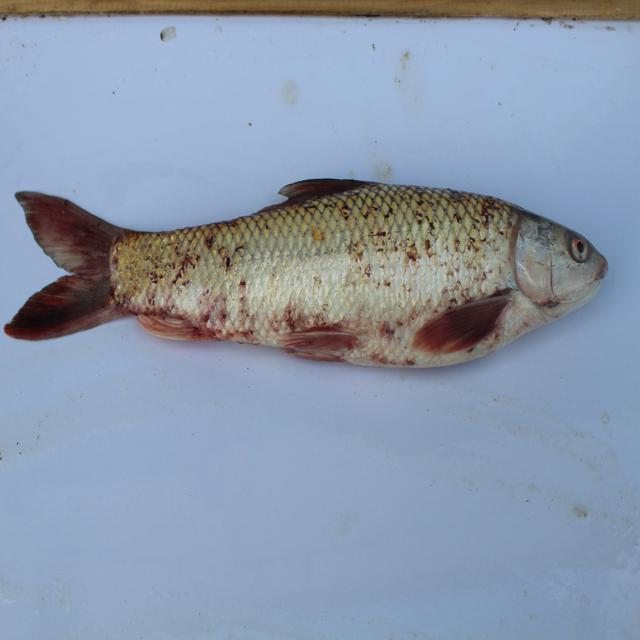Mori: (7, 172, 627, 385)
